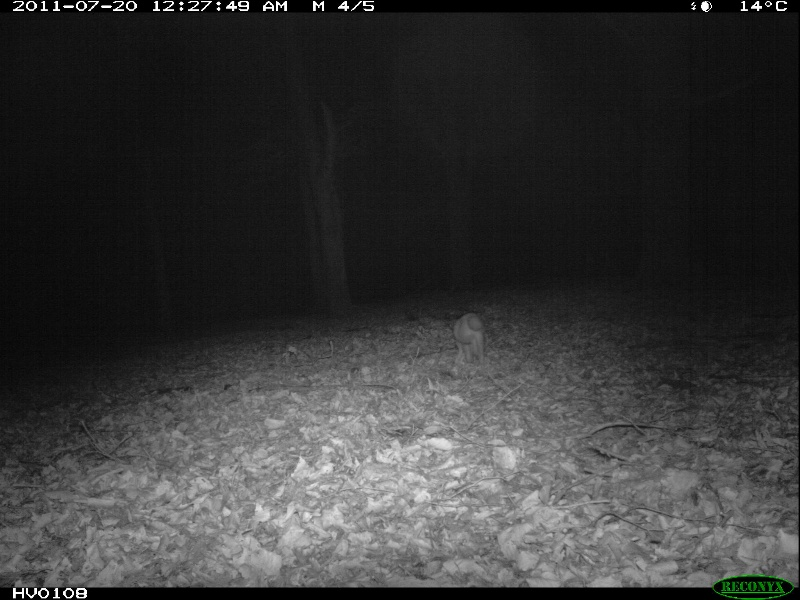fox: (450, 311, 494, 369)
